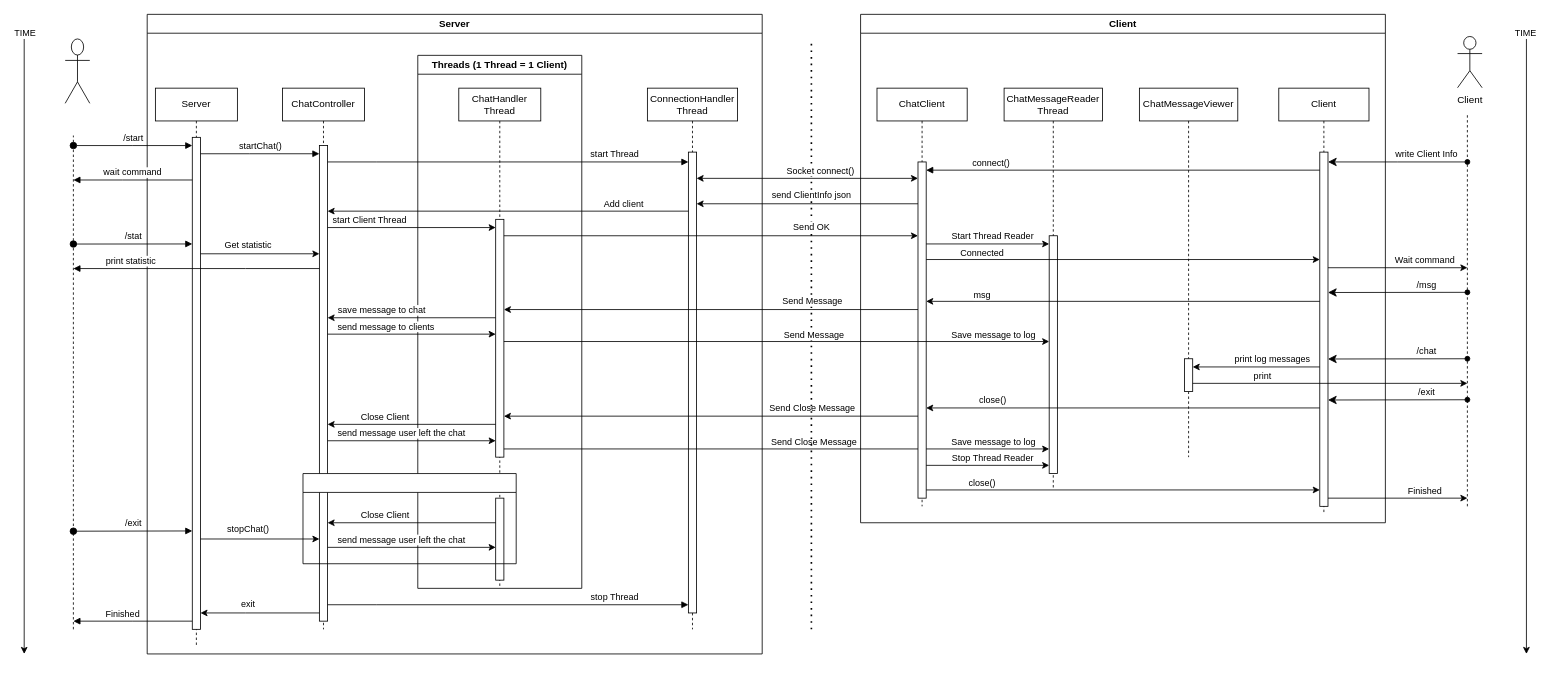
The diagram is 1550 pixels wide and 675 high, and some of its shapes have lost their labels. The shapes that lost their labels are listed below. From the top down, each one's centre as x and y in pixels, then its label:
At point 77,70: "Admin".
At point 409,518: "Loop (Close Threads and Clients)".
